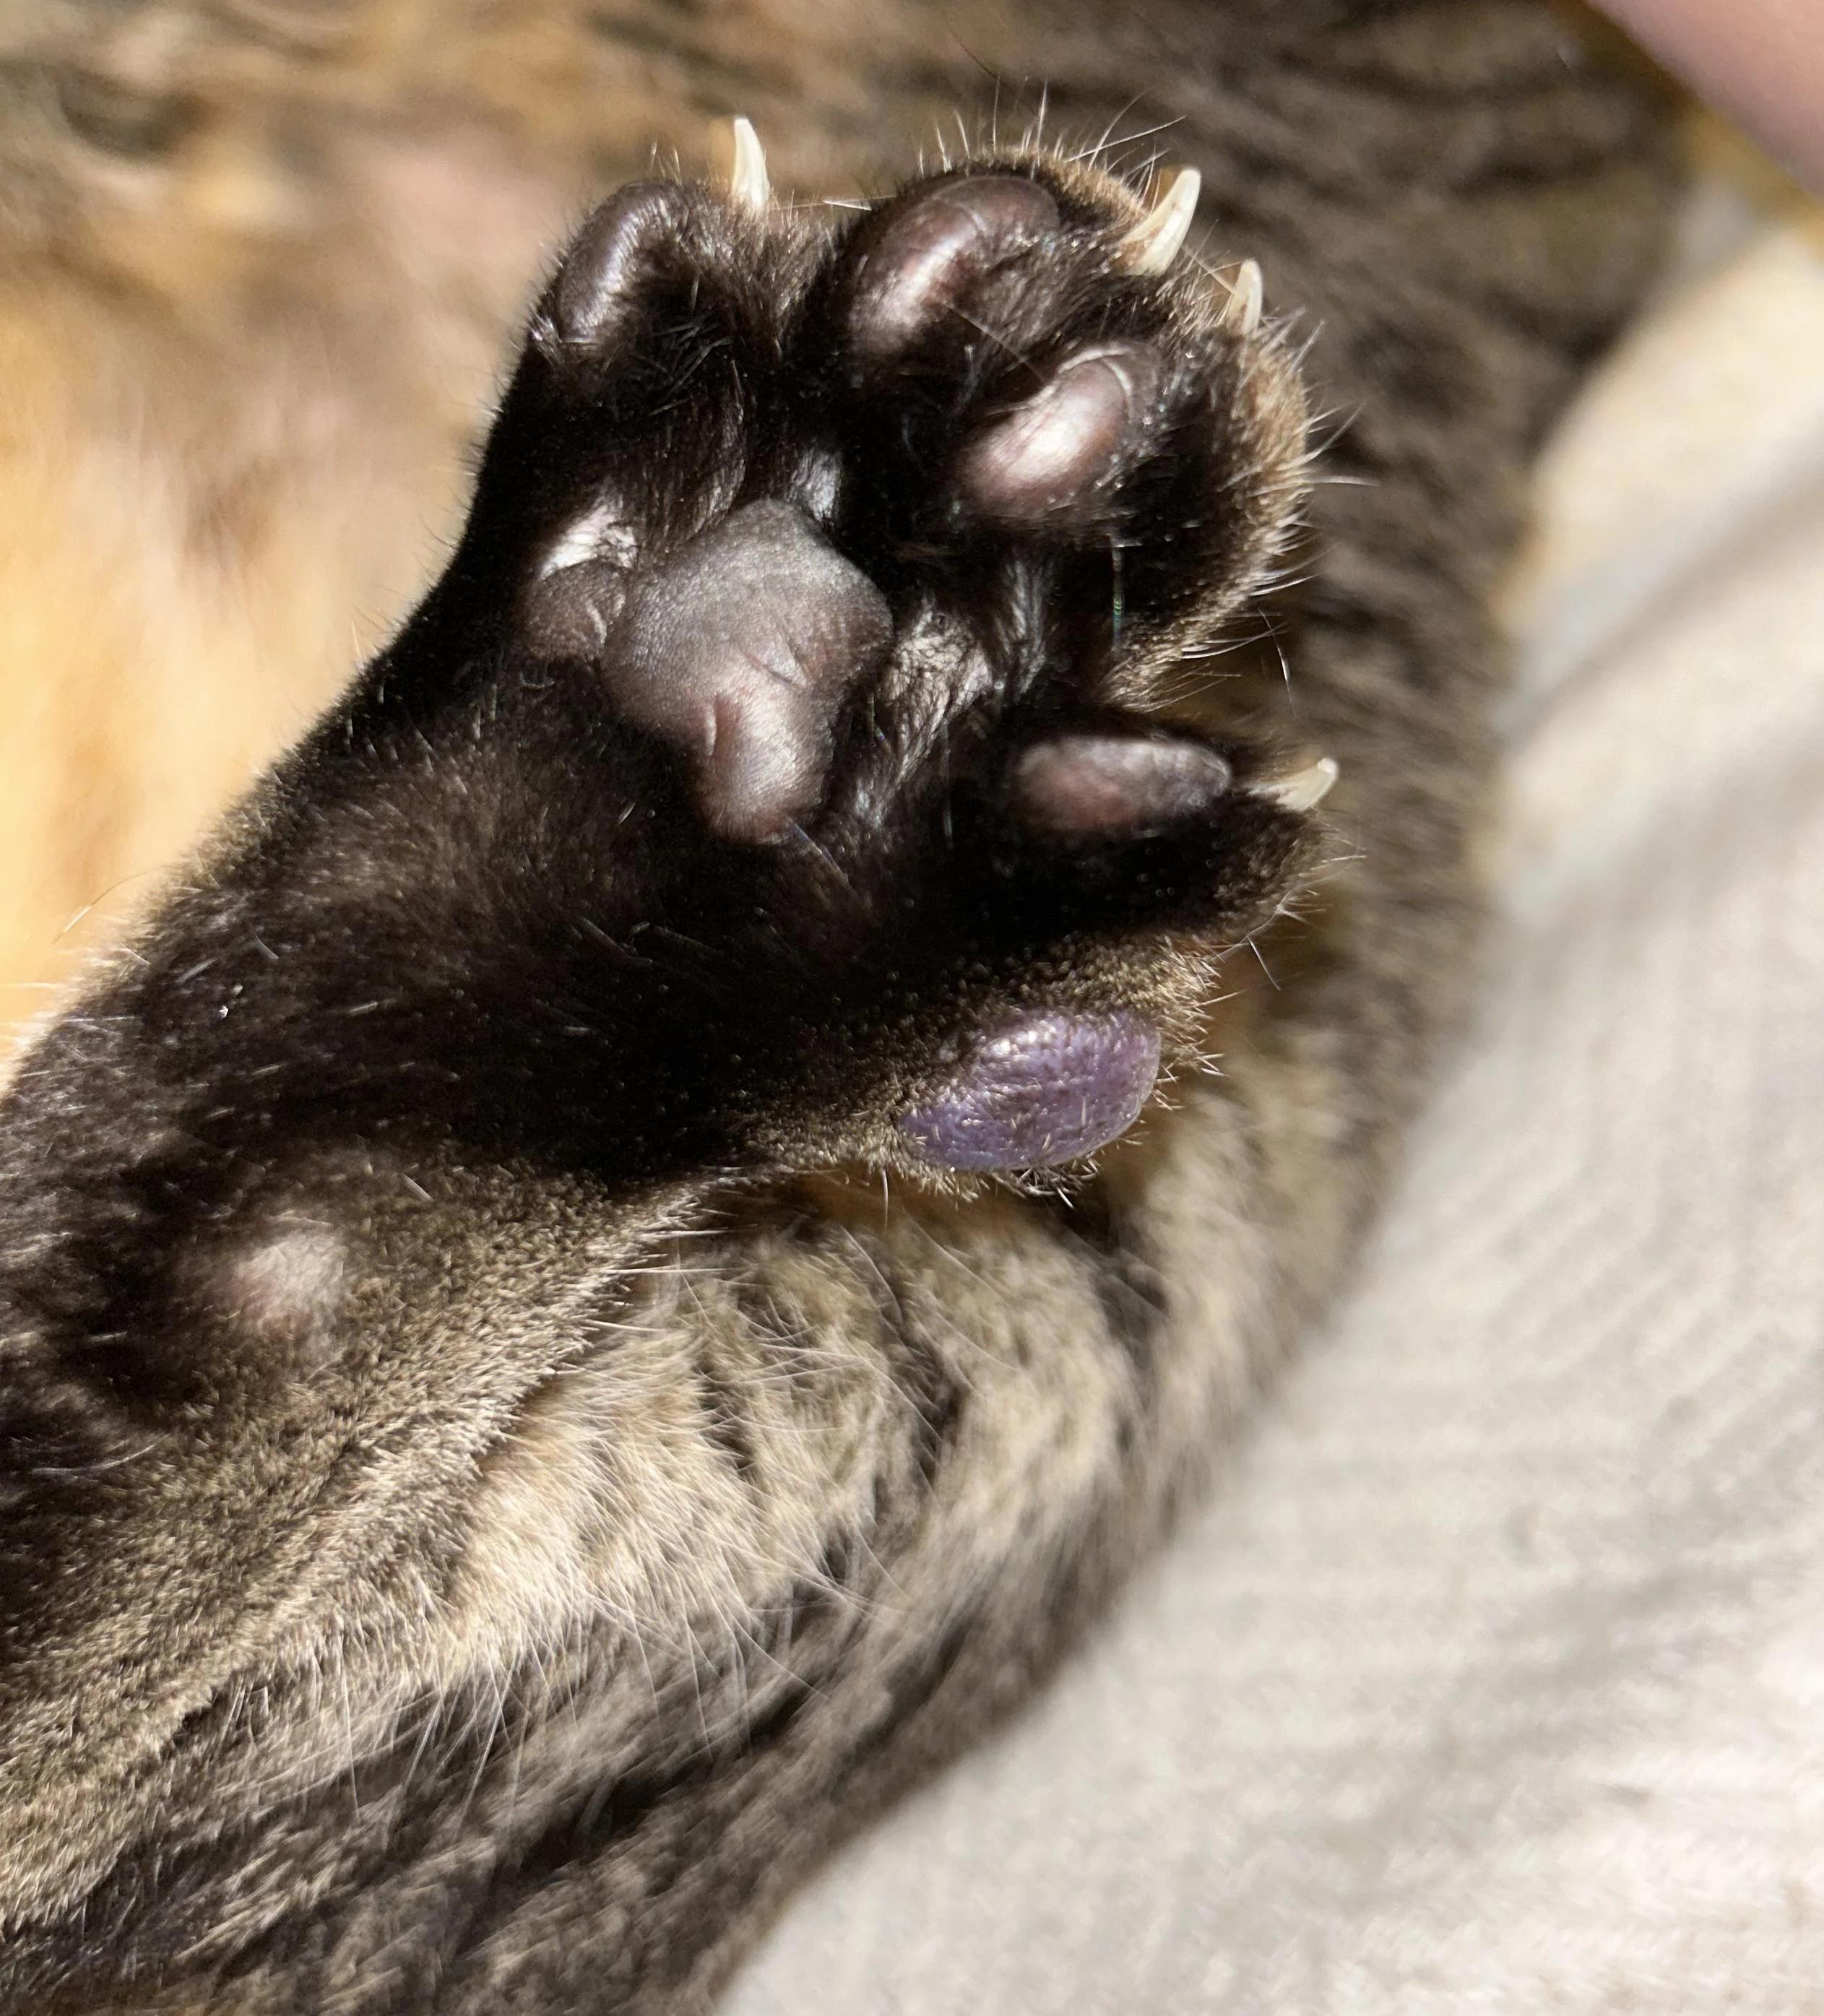lump_and_bump: (895, 985, 1190, 1177)
